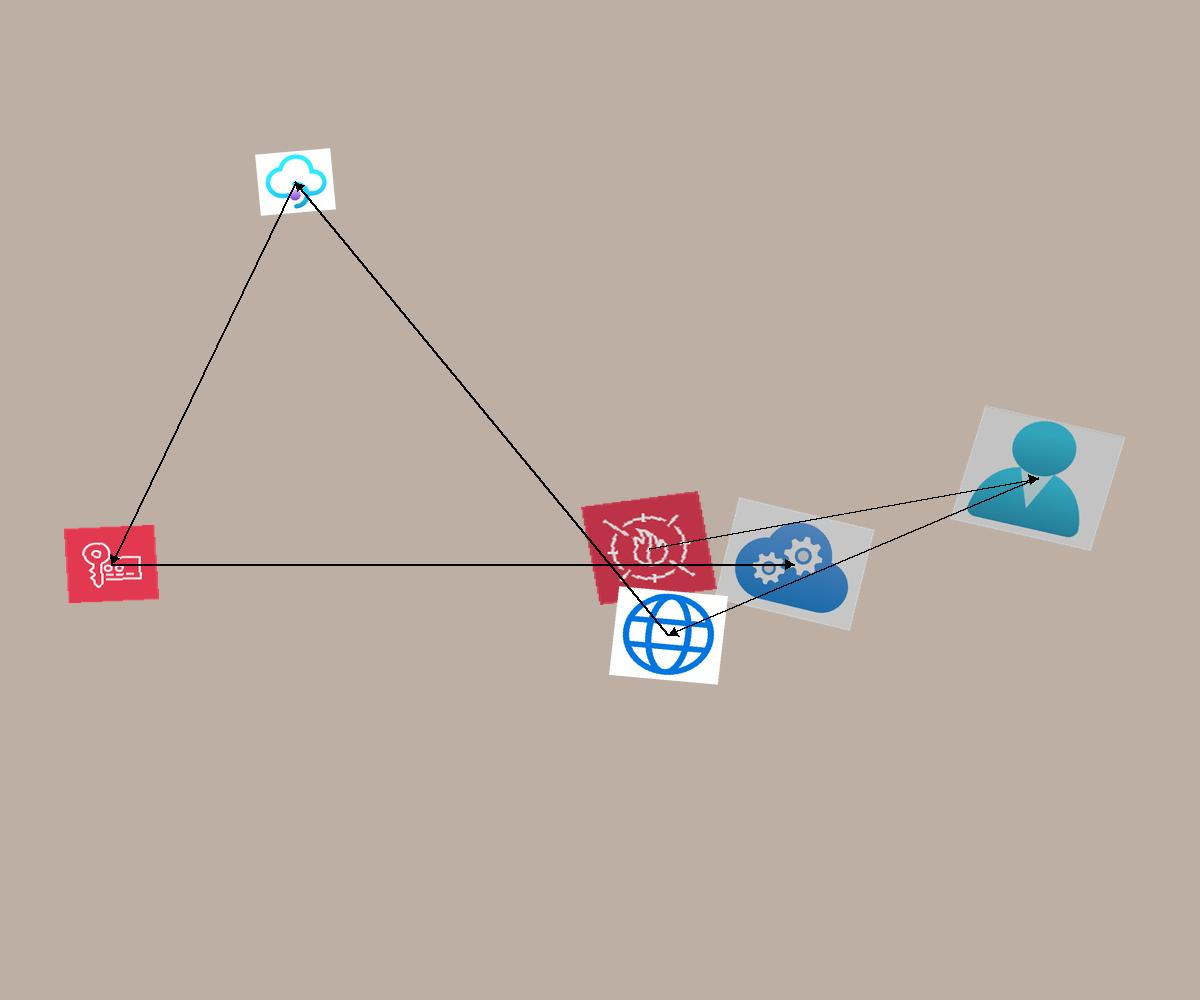AWS-Key-Management-Service: (63, 524, 160, 604)
AWS-WAF: (581, 491, 717, 605)
Azure_api_gateway: (255, 148, 336, 216)
Azure_cloud_services: (714, 497, 875, 631)
Azure_http: (609, 586, 728, 685)
Azure_users: (950, 405, 1126, 551)
